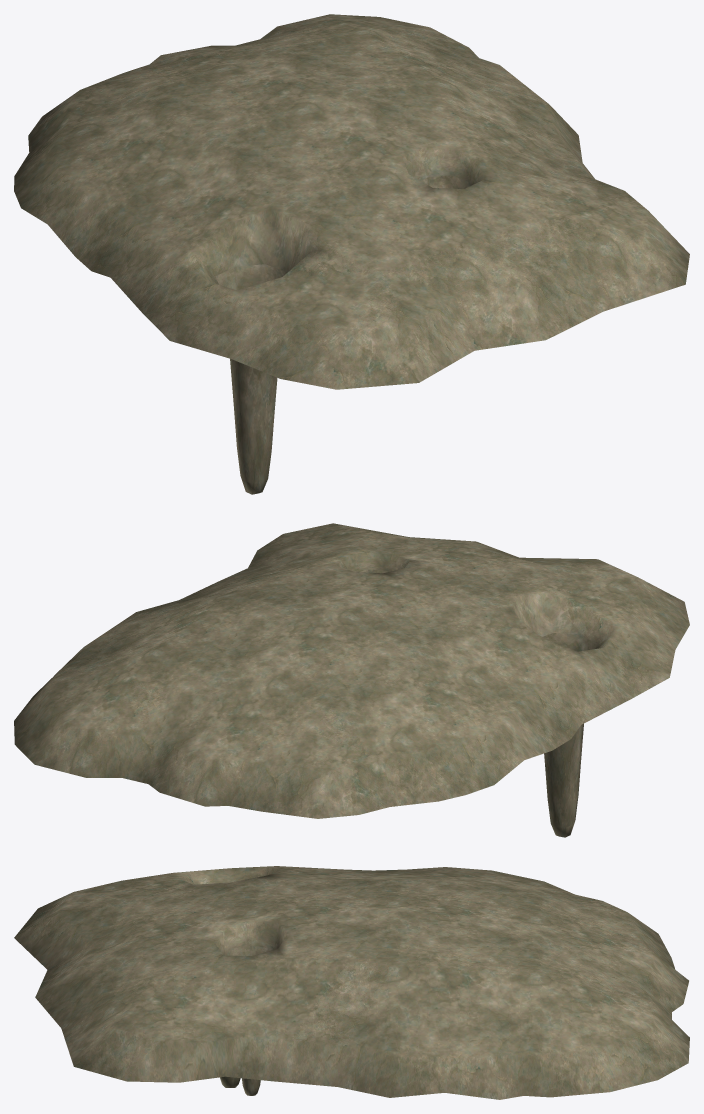
The model's file is OVERHILL_A_01_CAVE_ROOF.fbx.
3 views of the same model, one above another, from view 1: azimuth 30°, elevation 25°; view 2: azimuth 150°, elevation 25°; view 3: azimuth 270°, elevation 25° (orthographic). The views are drawn at different scales.
Visible parts, largest first — view 1: OVERHILL_A_01_CAVE_ROOF; view 2: OVERHILL_A_01_CAVE_ROOF; view 3: OVERHILL_A_01_CAVE_ROOF.
Boxes of the visible parts, box(x1,y1,x2,y2) form: OVERHILL_A_01_CAVE_ROOF: box(14, 14, 689, 494); OVERHILL_A_01_CAVE_ROOF: box(14, 523, 689, 837); OVERHILL_A_01_CAVE_ROOF: box(14, 866, 689, 1099).
Bounding box in the file's own units: 149072 × 77703 × 190485.
Materials: 1 (1 with a texture image).
